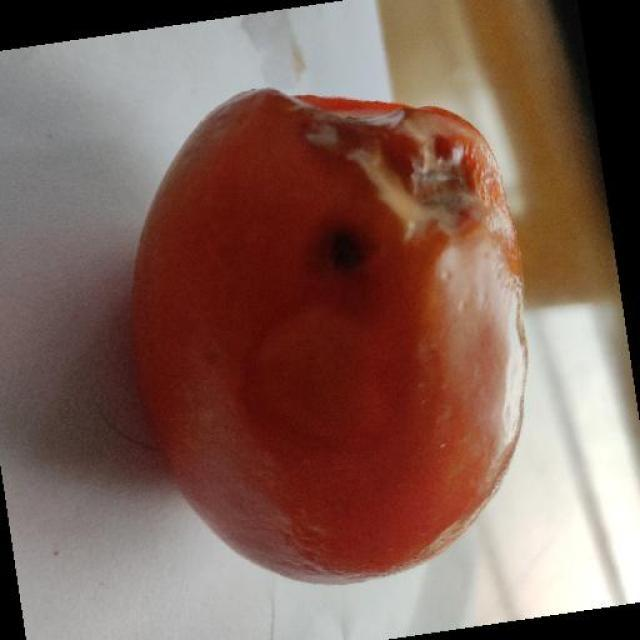Rotten Tomato: (96, 60, 578, 606)
